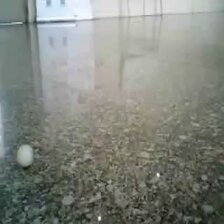w: (16, 144, 36, 169)
